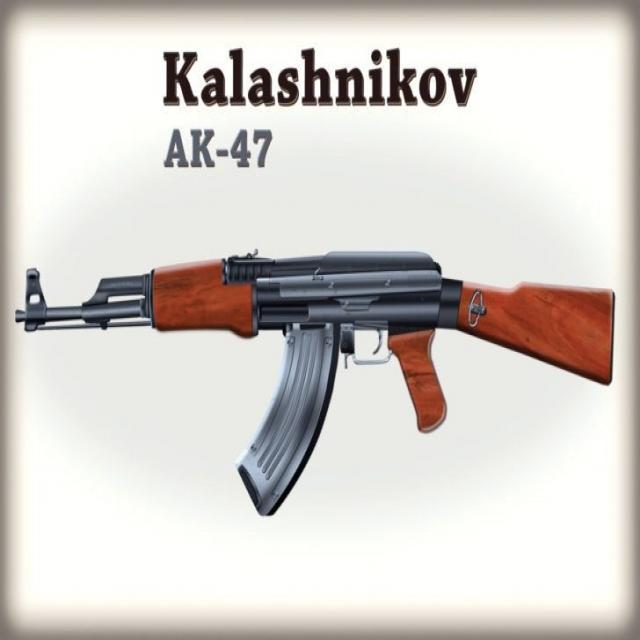ak: (18, 236, 620, 517)
